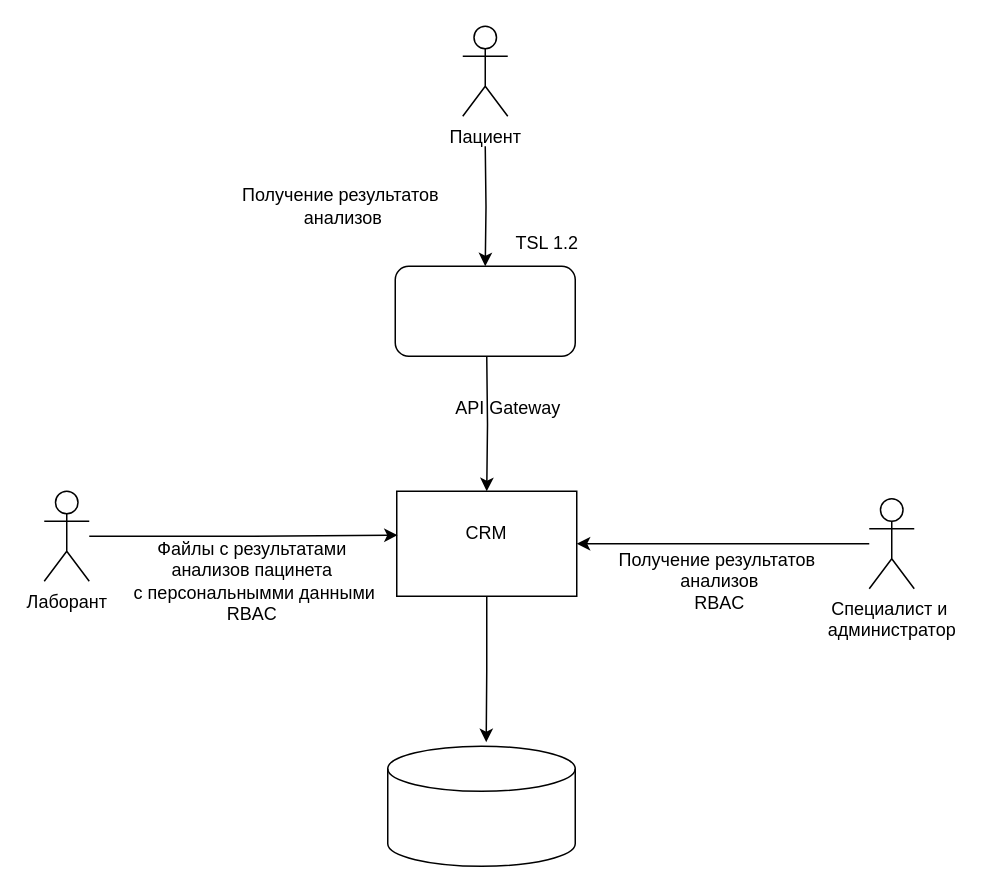
Some shapes in this 981 by 893 pixel diagram are drawn without their labels. Here are the shapes that lost their labels. From the top down, the box of each, then its label:
(394, 265, 575, 356): Портал
(386, 745, 575, 866): База CRM
